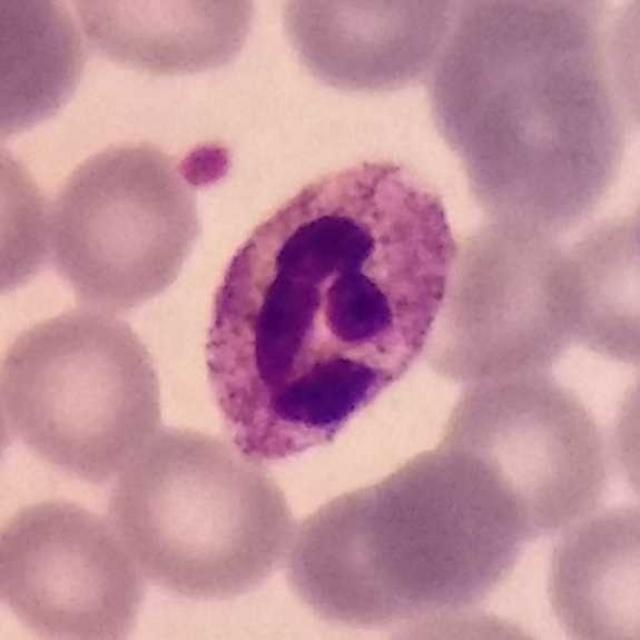Neutrophil: (186, 146, 470, 478)
Platelets: (177, 136, 240, 193)
RBC: (426, 1, 627, 200), (104, 422, 300, 605), (280, 468, 488, 634), (432, 367, 615, 539), (355, 442, 531, 617), (1, 304, 169, 480), (42, 136, 208, 310), (437, 214, 588, 380), (0, 492, 148, 640), (272, 0, 460, 99), (60, 0, 262, 83), (542, 202, 640, 366), (538, 500, 640, 640), (0, 0, 90, 137), (0, 128, 57, 301), (443, 0, 619, 51), (364, 601, 570, 640), (605, 348, 640, 528), (601, 0, 640, 145), (0, 344, 16, 510)
